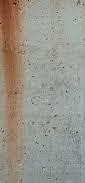Corrosion: (1, 1, 25, 183)
